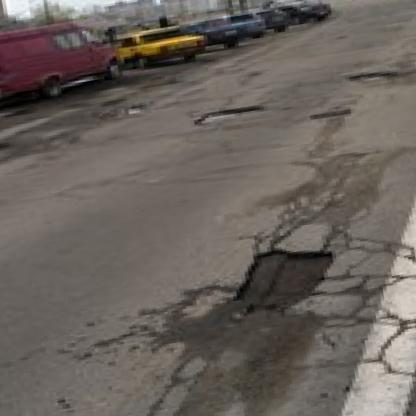pothole: (228, 242, 340, 317), (193, 103, 265, 127), (353, 67, 403, 88), (310, 107, 352, 120)
